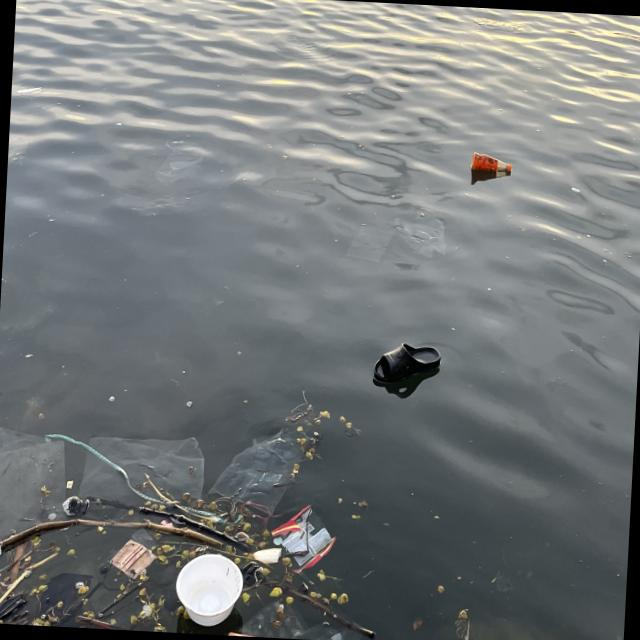foam: (175, 553, 245, 630), (64, 497, 91, 519), (253, 548, 284, 566)
plastic bag: (274, 505, 334, 572)
plastic bottle: (472, 153, 514, 173)
